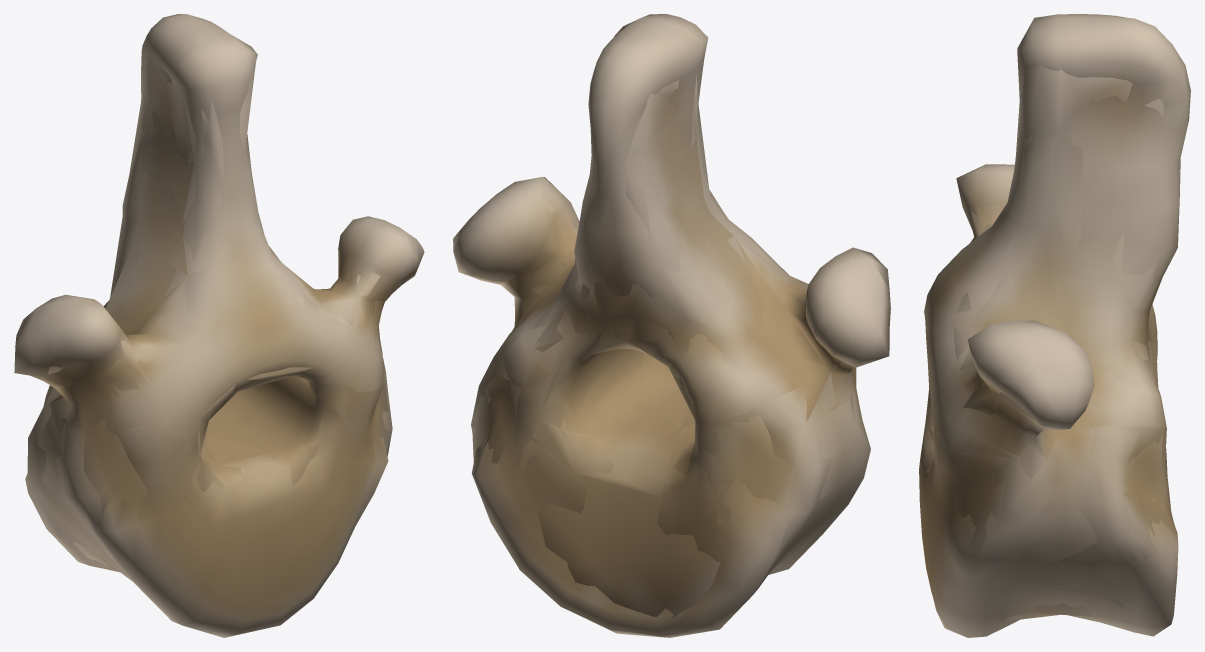
File: vertebrae thoracicae 15.fbx
The picture shows the model from 3 angles, left to right: view 1: azimuth 30°, elevation 25°; view 2: azimuth 150°, elevation 25°; view 3: azimuth 270°, elevation 25°; orthographic projection. The views are drawn at different scales.
Visible parts, largest first — view 1: vertebrae thoracicae 15, vertebrae thoracicae 15 low; view 2: vertebrae thoracicae 15, vertebrae thoracicae 15 low; view 3: vertebrae thoracicae 15, vertebrae thoracicae 15 low.
Boxes of the visible parts, x1=… form: vertebrae thoracicae 15: x1=14, y1=14, x2=424, y2=637; vertebrae thoracicae 15 low: x1=30, y1=56, x2=407, y2=580; vertebrae thoracicae 15: x1=453, y1=14, x2=890, y2=637; vertebrae thoracicae 15 low: x1=472, y1=75, x2=862, y2=617; vertebrae thoracicae 15: x1=919, y1=14, x2=1190, y2=637; vertebrae thoracicae 15 low: x1=926, y1=66, x2=1171, y2=621.
Size of the model in its own units: 8.34 by 10.9 by 4.41.
1 material, 1 textured.
